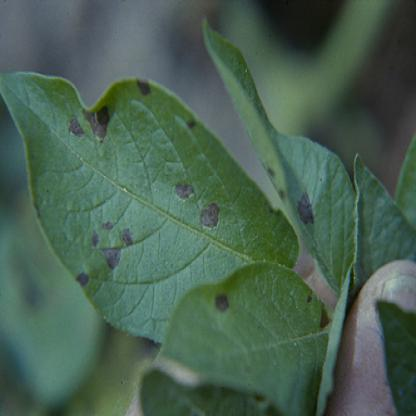potato leaf early blight: (1, 72, 305, 356)
